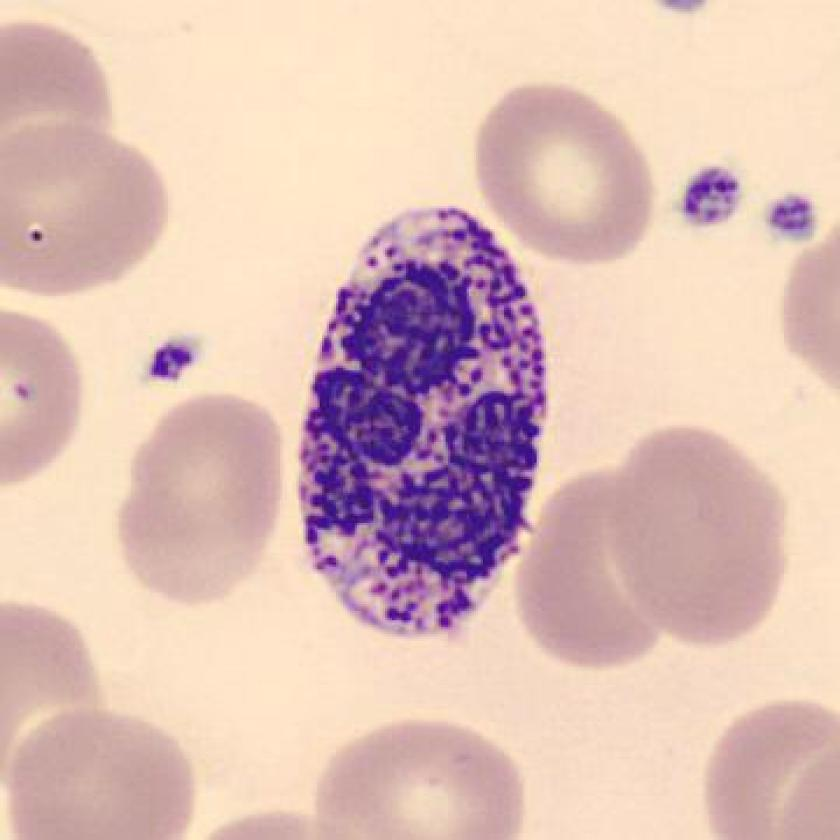basophil: (281, 182, 556, 668)
